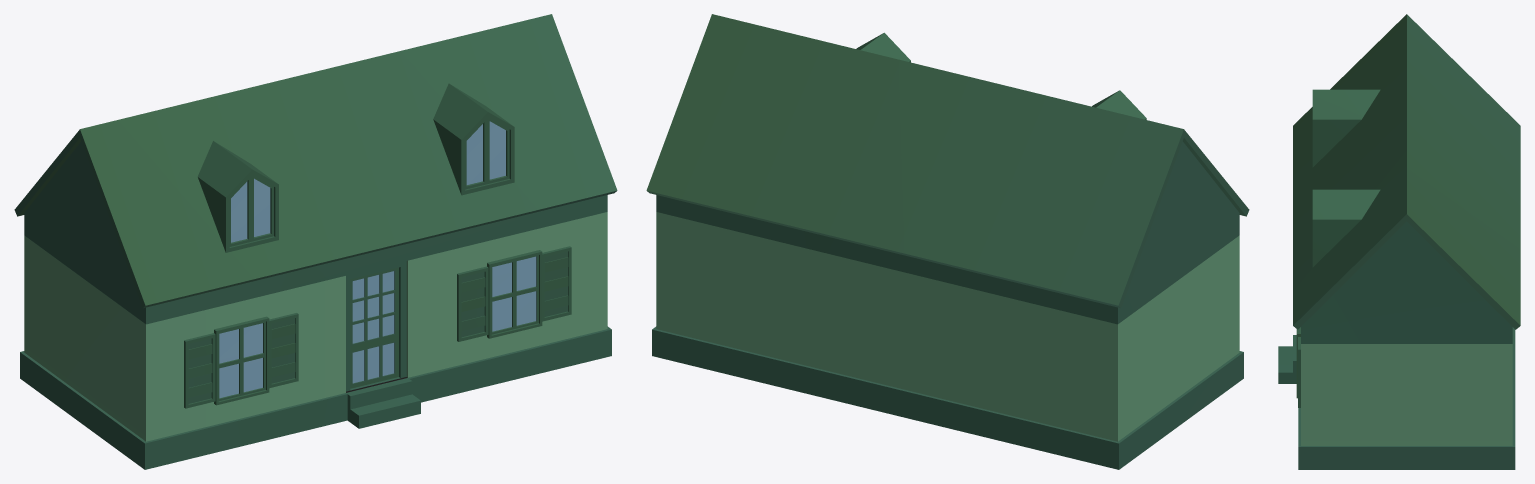
Rendered from Env_ResidentBuilding_05.fbx.
The picture shows the model from 3 angles, left to right: view 1: azimuth 30°, elevation 25°; view 2: azimuth 150°, elevation 25°; view 3: azimuth 270°, elevation 25°; orthographic projection. The views are drawn at different scales.
Parts seen in each view (by area): view 1: Env_ResidentBuilding_05; view 2: Env_ResidentBuilding_05; view 3: Env_ResidentBuilding_05.
Boxes of the visible parts, x1,y1,x2,y2 form: Env_ResidentBuilding_05: (14, 14, 617, 469); Env_ResidentBuilding_05: (646, 14, 1249, 469); Env_ResidentBuilding_05: (1278, 14, 1520, 469).
Size of the model in its own units: 1163 by 696 by 595.
Materials: 1 (1 with a texture image).
